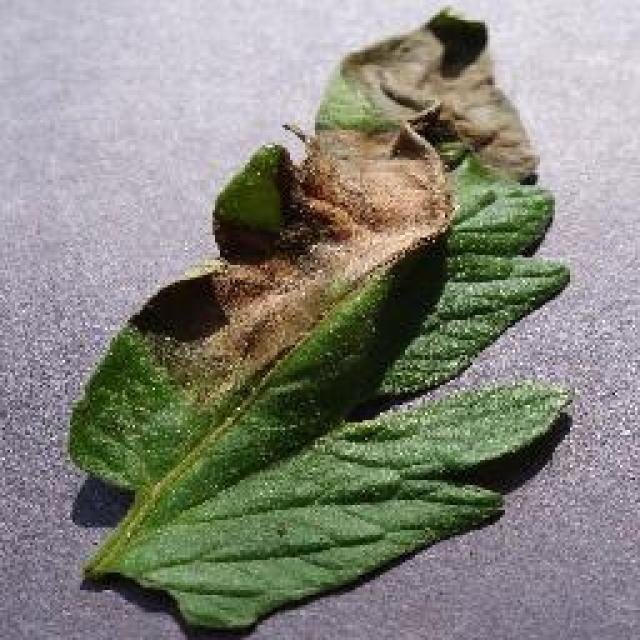Tomato Late Blight: (122, 21, 553, 402)
